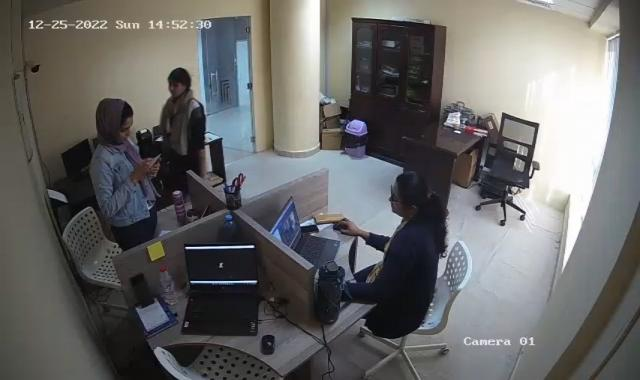no_hairnet: (94, 98, 136, 144), (390, 173, 428, 222), (167, 66, 192, 98)
